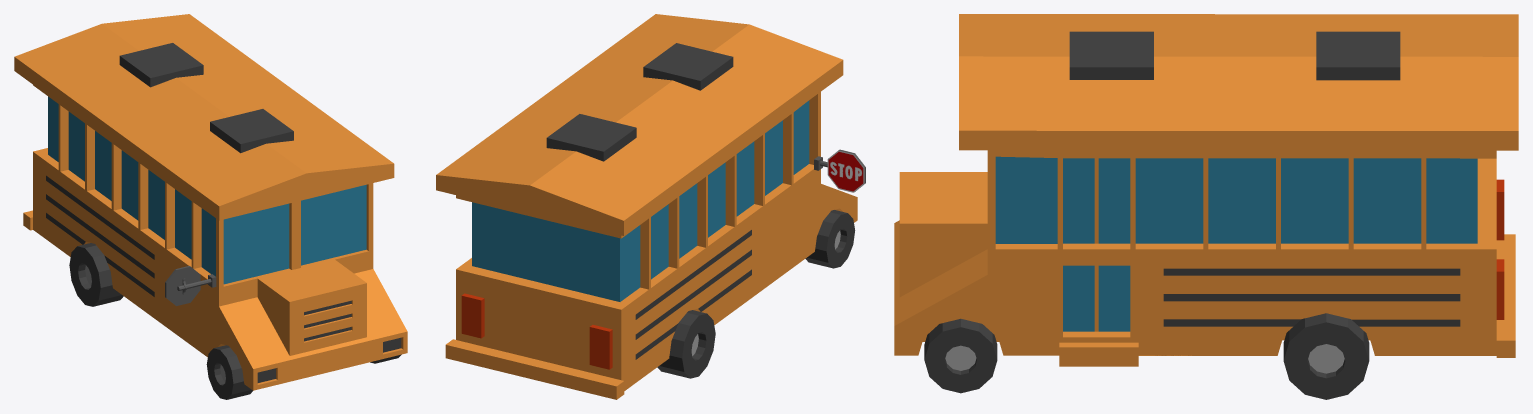
File: low_poly_school_bus.glb
The picture shows the model from 3 angles, left to right: view 1: azimuth 30°, elevation 25°; view 2: azimuth 150°, elevation 25°; view 3: azimuth 270°, elevation 25°; orthographic projection. The views are drawn at different scales.
Parts seen in each view (by area): view 1: bus, cubi tetto.001, RUOTE POSTERIORI, RUOTE ANTERIORI, stop; view 2: bus, cubi tetto.001, RUOTE POSTERIORI, luci posteriori, RUOTE ANTERIORI, stop; view 3: bus, cubi tetto.001, RUOTE POSTERIORI, RUOTE ANTERIORI, luci posteriori.
Part boxes in pixels (left/top/right/bottom): bus: left=14, top=14, right=407, bottom=390; cubi tetto.001: left=119, top=43, right=293, bottom=153; RUOTE POSTERIORI: left=69, top=243, right=123, bottom=306; RUOTE ANTERIORI: left=206, top=345, right=401, bottom=399; stop: left=165, top=266, right=216, bottom=305; bus: left=436, top=14, right=857, bottom=399; cubi tetto.001: left=546, top=43, right=733, bottom=161; RUOTE POSTERIORI: left=657, top=310, right=715, bottom=378; luci posteriori: left=461, top=293, right=612, bottom=369; RUOTE ANTERIORI: left=805, top=210, right=855, bottom=268; stop: left=814, top=149, right=865, bottom=192; bus: left=894, top=14, right=1518, bottom=366; cubi tetto.001: left=1069, top=31, right=1400, bottom=80; RUOTE POSTERIORI: left=1283, top=313, right=1369, bottom=399; RUOTE ANTERIORI: left=924, top=318, right=997, bottom=393; luci posteriori: left=1496, top=179, right=1504, bottom=319.
Bounding box in the file's own units: 5.06 × 4.89 × 9.45.
5 materials, 2 textured.
